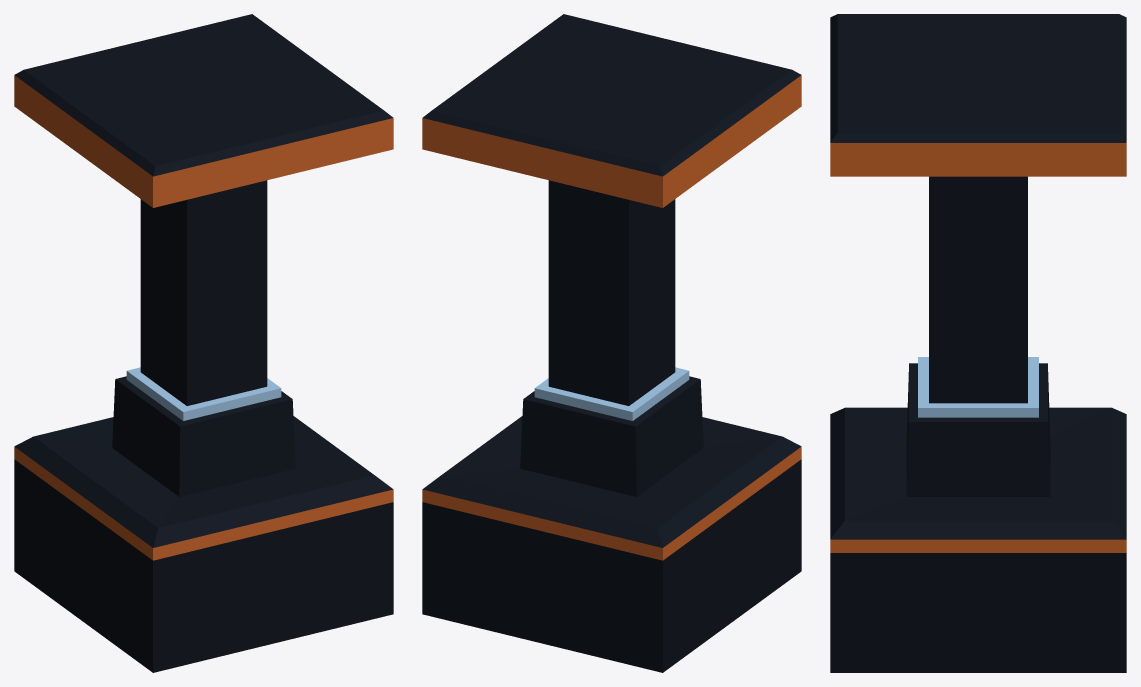
File: Platform - vertical.fbx
3 views of the same model, side by side, from view 1: azimuth 30°, elevation 25°; view 2: azimuth 150°, elevation 25°; view 3: azimuth 270°, elevation 25° (orthographic). The views are drawn at different scales.
Visible parts, largest first — view 1: Platform Base, Platform; view 2: Platform Base, Platform; view 3: Platform Base, Platform.
Part boxes in pixels (bbox=[...]): Platform Base: bbox=[14, 367, 393, 672]; Platform: bbox=[14, 14, 393, 405]; Platform Base: bbox=[422, 367, 801, 672]; Platform: bbox=[422, 14, 801, 405]; Platform Base: bbox=[830, 357, 1126, 672]; Platform: bbox=[830, 14, 1126, 403].
Size of the model in its own units: 200 by 399 by 200.
